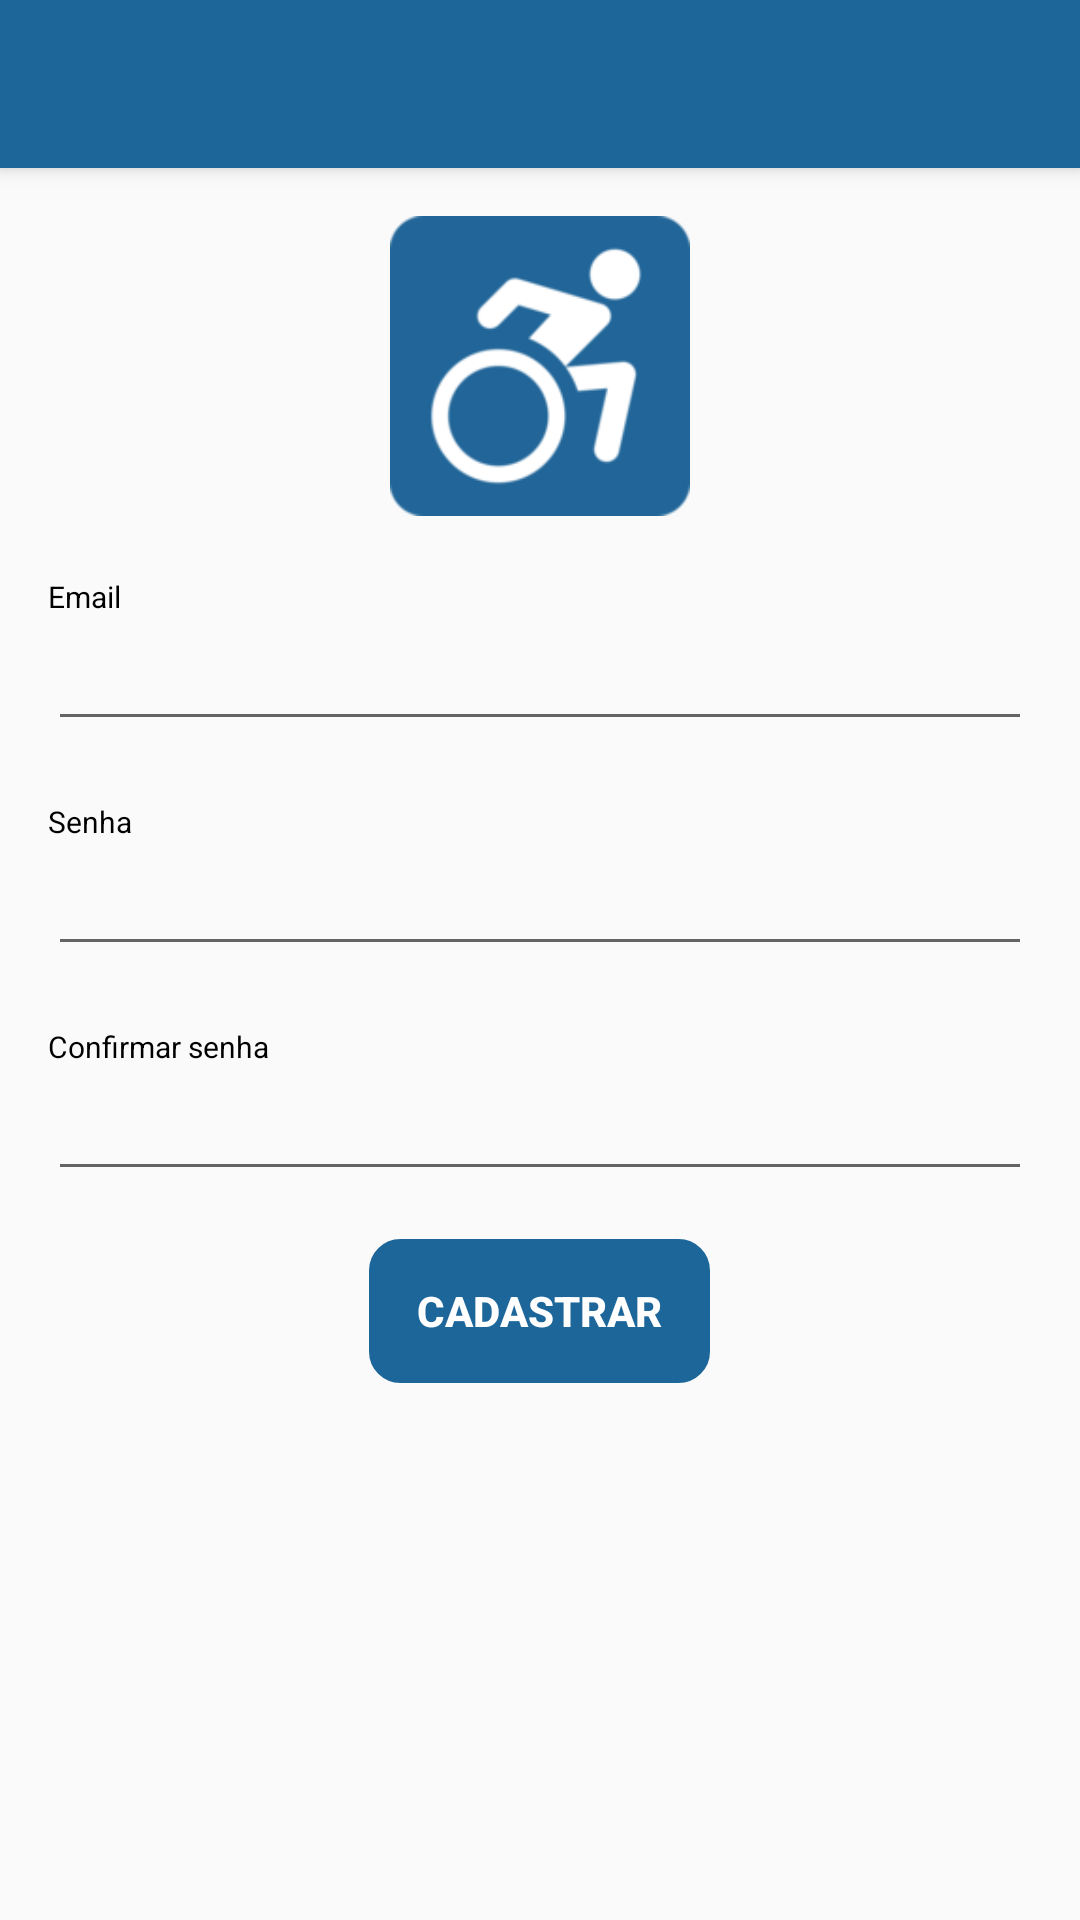

Where to tap for icons on this 1080x1920 app screen, as [x,y]:
wheelchair main: [540,366]
